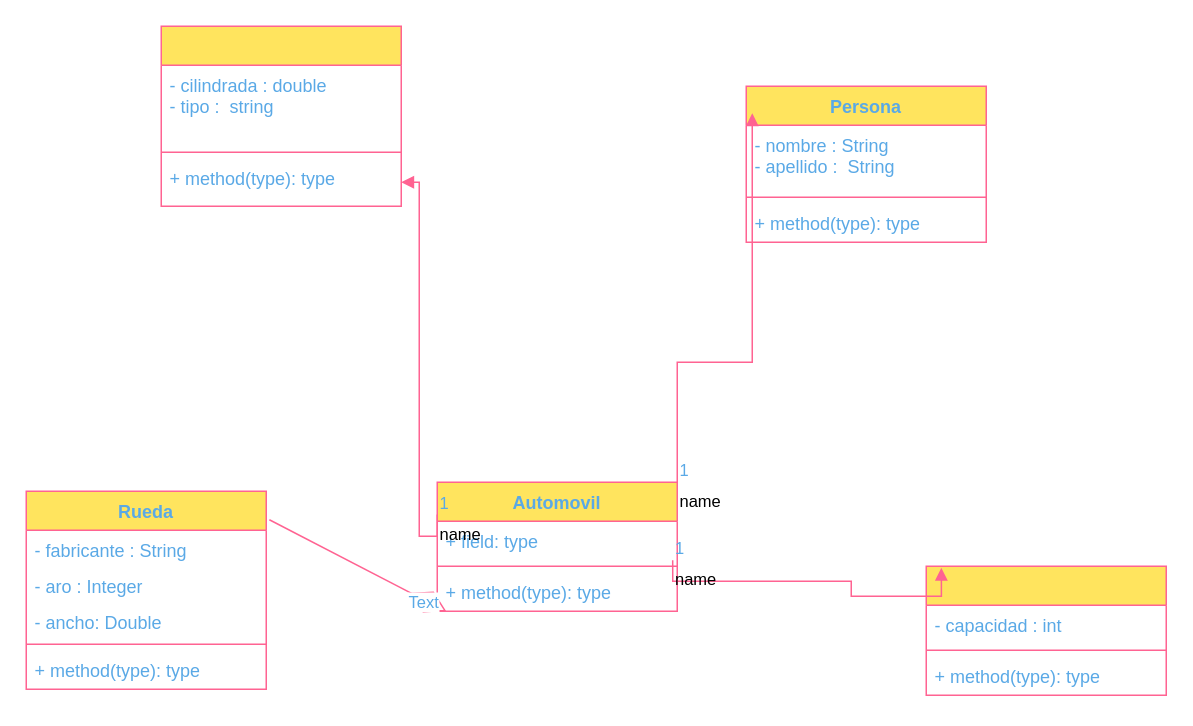
Some shapes in this 1193 by 726 pixel diagram are drawn without their labels. Each missing label, with the box of its shape:
Estanque: (925, 565, 1166, 695)
Motor: (160, 25, 401, 206)
